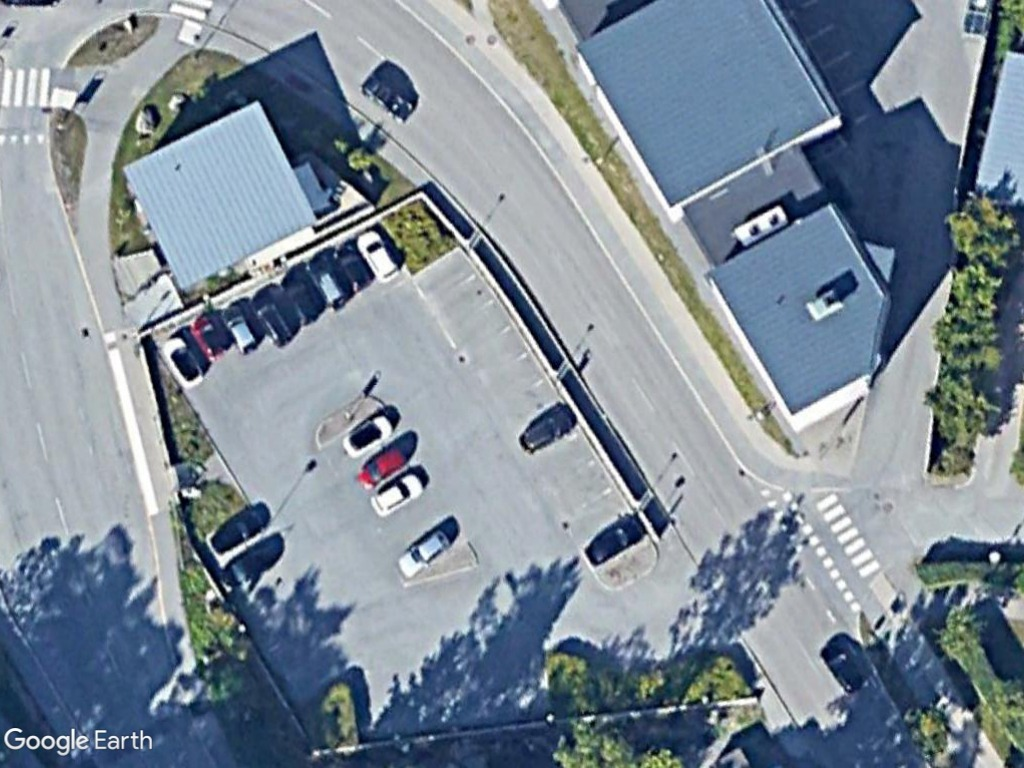car: (581, 514, 647, 568), (393, 526, 452, 582), (516, 401, 576, 455), (249, 290, 296, 350), (369, 469, 425, 519), (355, 441, 409, 490), (340, 412, 395, 459), (356, 228, 402, 284), (219, 302, 261, 357)
